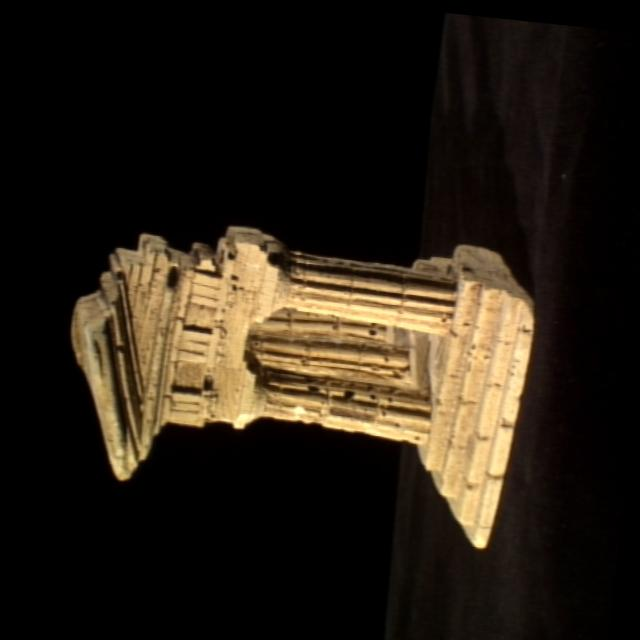Instance-Segmentation: (72, 226, 531, 546)
